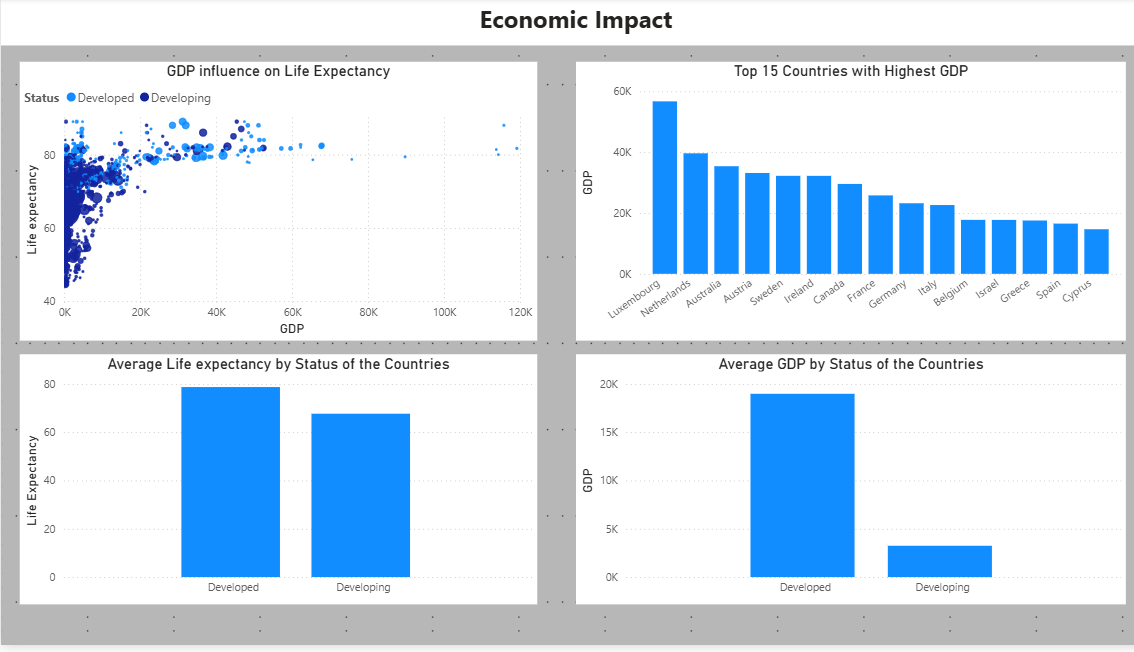

This screenshot's page, from the dashboard's own definition file:
{"tool":"powerbi","page":{"name":"Page 2","canvas":[1280,720],"ordinal":1},"visuals":[{"type":"textbox","box":[0,0,1280,52.9],"z":0},{"type":"scatterChart","title":"GDP influence on Life Expectancy","fields":{"X":["Life Expectancy Data.GDP"],"Y":["Life Expectancy Data.Life expectancy "],"Series":["Life Expectancy Data.Status"],"Size":["Avg(Life Expectancy Data.Population)"]},"box":[20.9,71,576,310.3],"z":1000},{"type":"clusteredColumnChart","title":"Average GDP by Status of the Countries","fields":{"Category":["Life Expectancy Data.Status"],"Y":["Avg(Life Expectancy Data.GDP)"]},"box":[640,396.5,612.2,278.3],"z":2000},{"type":"clusteredColumnChart","title":"Average Life expectancy  by Status of the Countries","fields":{"Category":["Life Expectancy Data.Status"],"Y":["Avg(Life Expectancy Data.Life expectancy )"]},"box":[20.9,396.5,576,278.3],"z":3000},{"type":"clusteredColumnChart","title":"Top 15 Countries with Highest GDP","fields":{"Category":["Life Expectancy Data.Country"],"Y":["Avg(Life Expectancy Data.GDP)"]},"box":[640,71,612.2,310.3],"z":4000}]}

Visuals, with their boxes in screenshot pixels (x1, y1, x2, y2), scaled from the page's 1280x720 canvas onto the 1134x652 screenshot:
textbox: l=0, t=0, r=1133, b=48
"GDP influence on Life Expectancy" scatterChart: l=19, t=64, r=529, b=345
"Average GDP by Status of the Countries" clusteredColumnChart: l=567, t=359, r=1109, b=611
"Average Life expectancy  by Status of the Countries" clusteredColumnChart: l=19, t=359, r=529, b=611
"Top 15 Countries with Highest GDP" clusteredColumnChart: l=567, t=64, r=1109, b=345
